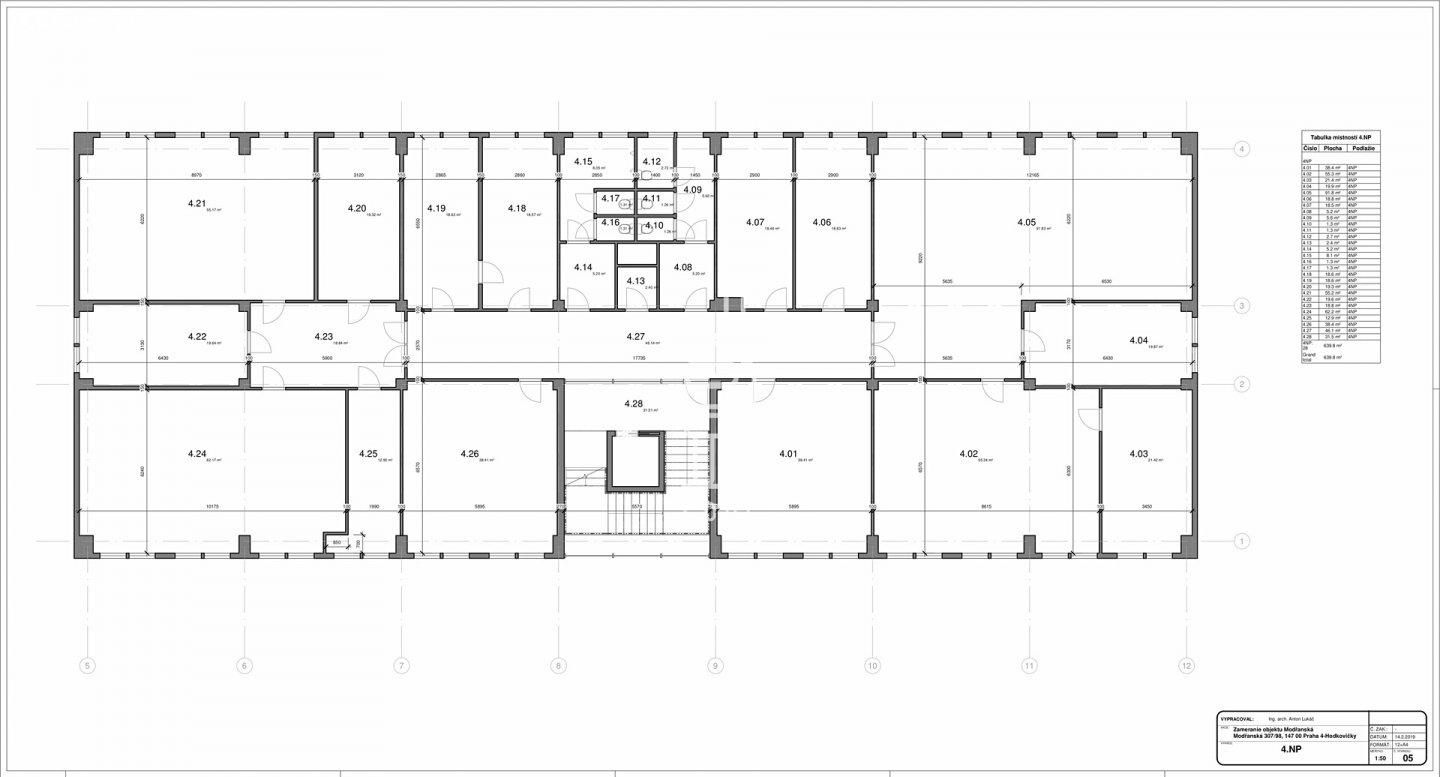room: (76, 388, 347, 554), (873, 380, 1101, 555), (77, 136, 315, 302), (400, 381, 561, 556), (714, 380, 873, 556), (1029, 137, 1193, 302), (1101, 386, 1195, 555), (1021, 299, 1196, 387), (77, 302, 248, 387), (314, 135, 401, 300), (401, 135, 481, 309), (716, 134, 794, 310), (795, 134, 873, 310), (248, 302, 404, 389), (481, 136, 558, 310), (326, 387, 401, 554), (558, 136, 636, 242), (675, 135, 716, 242), (559, 241, 617, 310), (658, 242, 716, 310), (636, 135, 675, 189), (617, 266, 658, 310), (594, 189, 636, 215), (595, 216, 635, 242), (616, 242, 658, 266), (636, 190, 675, 215), (636, 216, 675, 241)
